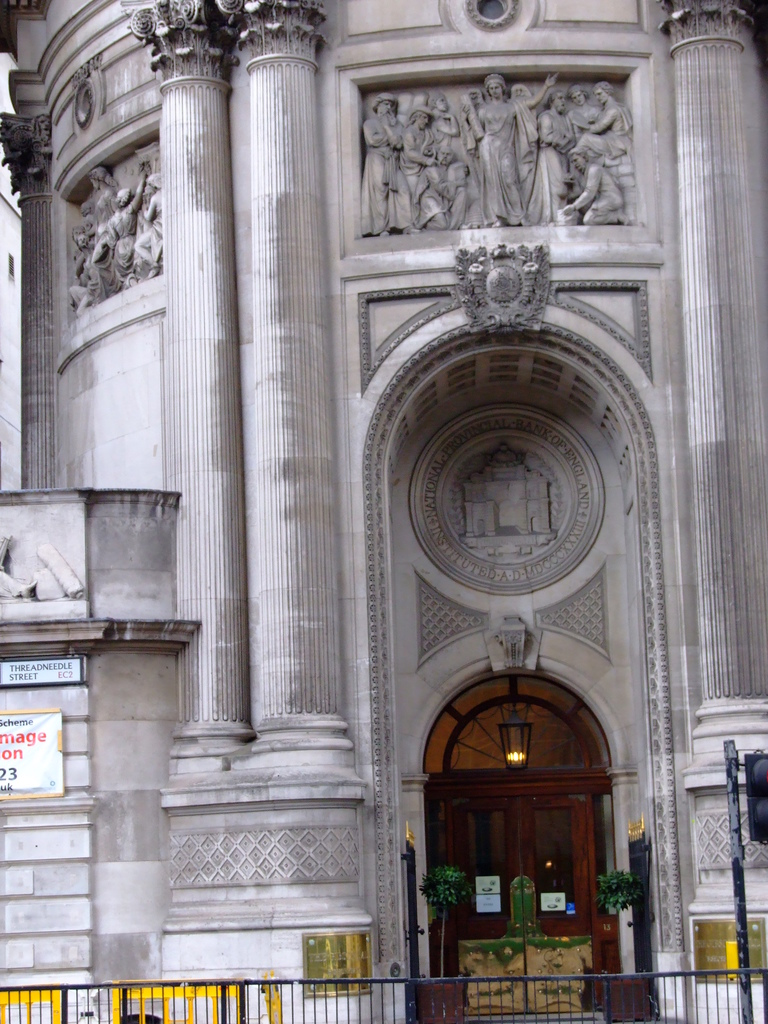Door: (418, 657, 630, 998)
